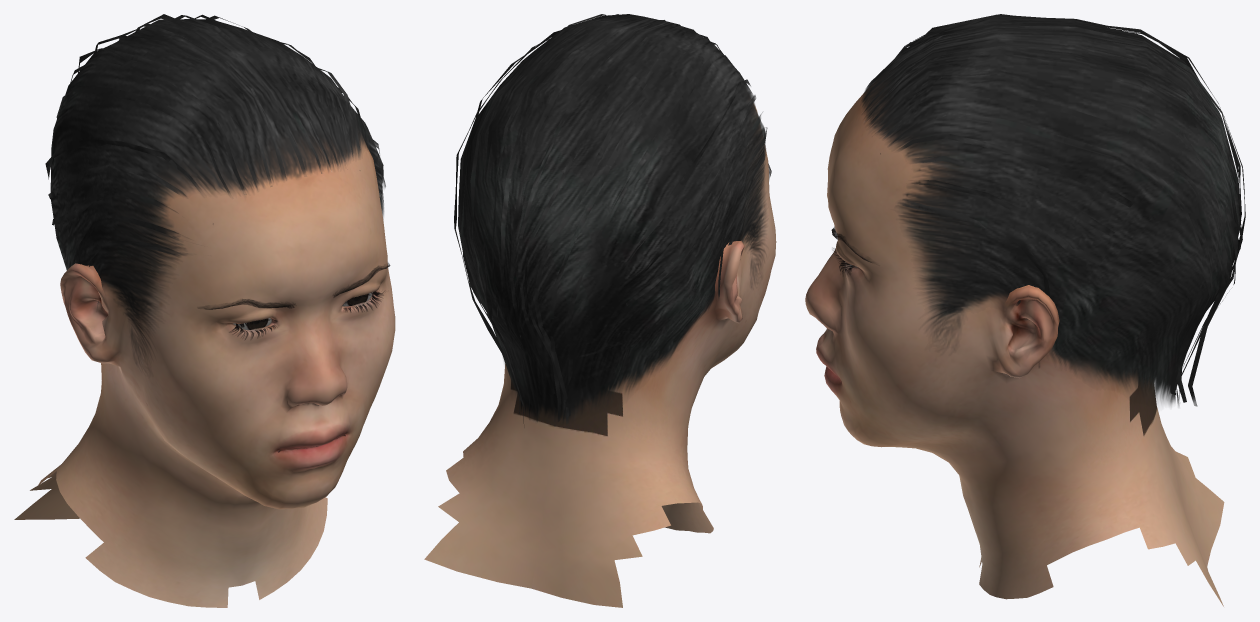
The model's file is patient03.glb.
3 renders of one model, left to right at view 1: azimuth 30°, elevation 25°; view 2: azimuth 150°, elevation 25°; view 3: azimuth 270°, elevation 25°, orthographic. The views are drawn at different scales.
Parts seen in each view (by area): view 1: lee_rider.body, lee_rider.short04, lee_rider.eyebrow003, lee_rider.eyelashes01; view 2: lee_rider.short04, lee_rider.body; view 3: lee_rider.short04, lee_rider.body.
Part boxes in pixels (x1,y1,x2,y2): lee_rider.body: [14, 137, 395, 607]; lee_rider.short04: [45, 14, 385, 368]; lee_rider.eyebrow003: [198, 262, 390, 309]; lee_rider.eyelashes01: [229, 291, 384, 339]; lee_rider.short04: [454, 14, 767, 427]; lee_rider.body: [424, 103, 776, 607]; lee_rider.short04: [861, 14, 1245, 406]; lee_rider.body: [805, 84, 1224, 606].
Size of the model in its own units: 0.1717 by 0.3029 by 0.2219.
Materials: 8 (7 with a texture image).
